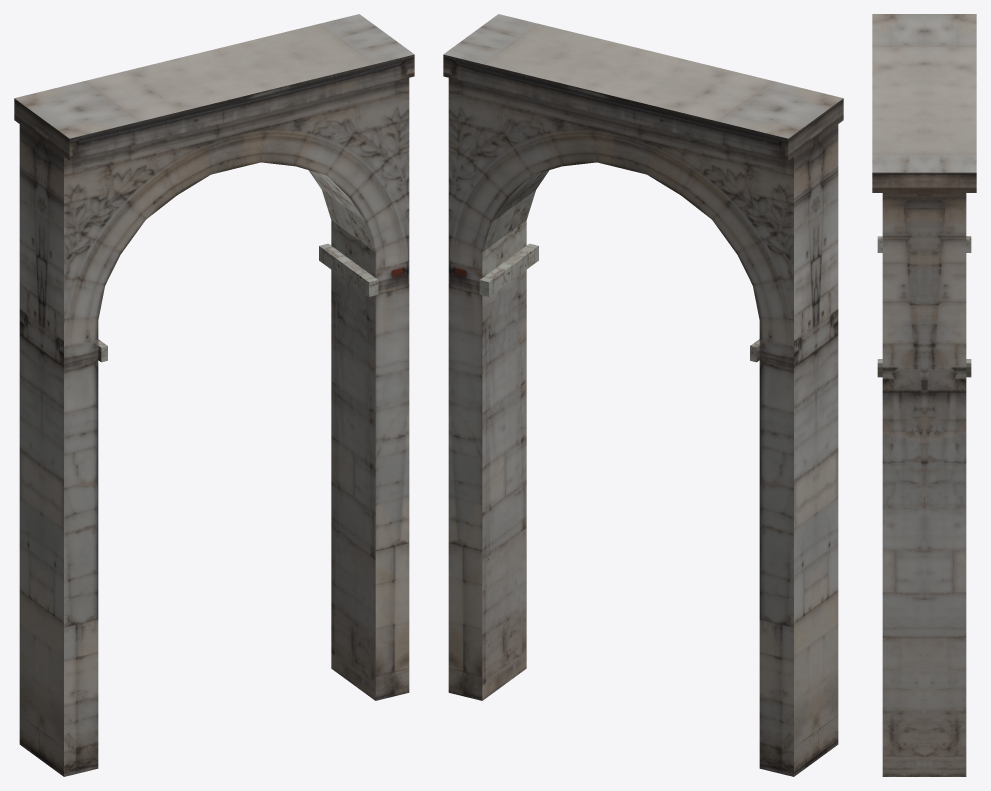
The model's file is Arch.FBX.
3 views of the same model, side by side, from view 1: azimuth 30°, elevation 25°; view 2: azimuth 150°, elevation 25°; view 3: azimuth 270°, elevation 25° (orthographic). The views are drawn at different scales.
Parts seen in each view (by area): view 1: Arch; view 2: Arch; view 3: Arch.
Boxes of the visible parts, x1,y1,x2,y2 form: Arch: [14, 14, 414, 776]; Arch: [443, 14, 843, 776]; Arch: [872, 14, 976, 776].
Bounding box in the file's own units: 576 × 1024 × 160.
